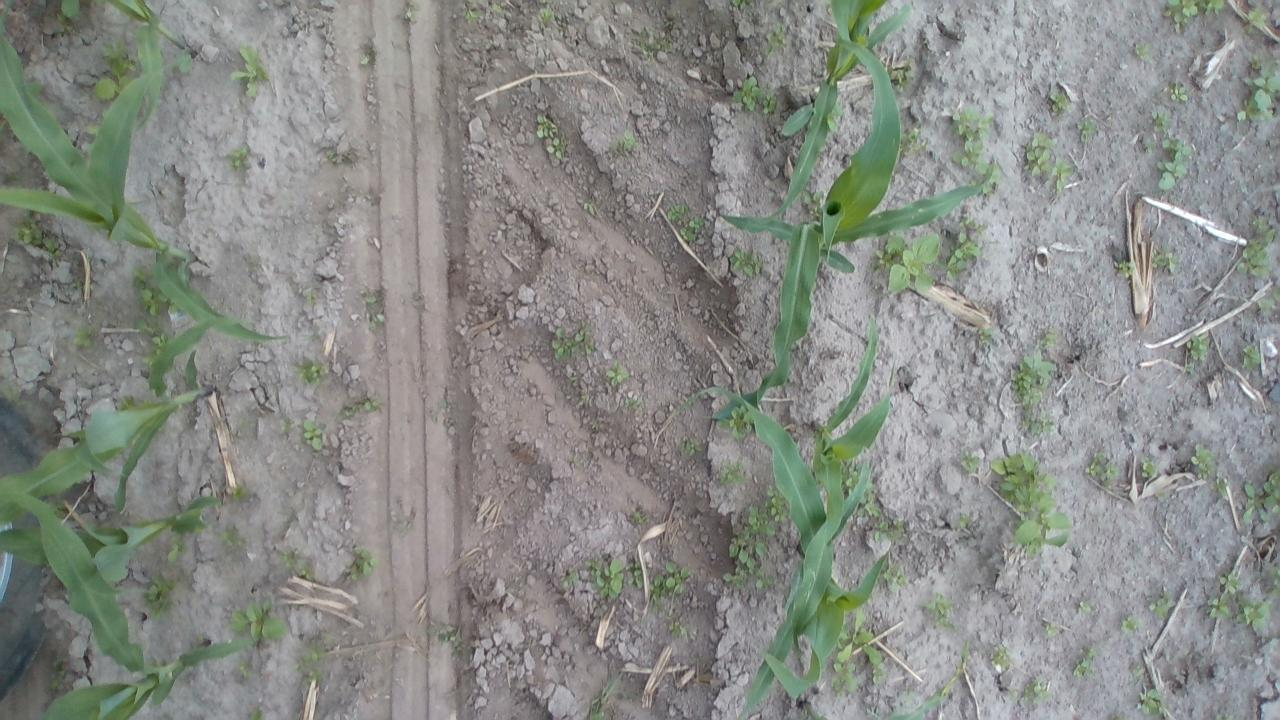Maize: (708, 41, 994, 424), (0, 0, 288, 340), (682, 386, 888, 708), (742, 316, 892, 720), (13, 493, 252, 720), (1, 315, 244, 520), (762, 0, 908, 223), (2, 488, 218, 596), (110, 0, 198, 131), (889, 692, 940, 718)
Weeds: (991, 446, 1073, 548), (724, 488, 783, 590), (872, 234, 943, 304), (834, 610, 888, 692), (1205, 572, 1267, 632), (946, 103, 996, 170), (1240, 50, 1280, 124), (10, 211, 66, 262), (1011, 356, 1064, 408), (1238, 213, 1276, 281), (1144, 138, 1190, 194), (94, 37, 134, 100), (1242, 468, 1280, 534), (228, 40, 272, 97), (229, 602, 285, 642), (586, 550, 624, 606), (128, 266, 172, 314), (950, 215, 983, 279), (649, 558, 690, 606), (586, 667, 623, 718), (554, 322, 598, 364), (296, 629, 329, 683), (534, 111, 568, 160), (140, 572, 180, 610), (734, 80, 780, 113), (1020, 675, 1056, 717), (859, 516, 908, 545), (1022, 133, 1054, 176), (342, 543, 376, 581), (633, 35, 676, 64), (921, 594, 955, 629), (1084, 452, 1122, 482), (884, 562, 916, 594), (1186, 440, 1214, 476), (952, 451, 991, 476), (1148, 588, 1180, 618), (718, 459, 752, 487), (294, 354, 328, 382), (1162, 0, 1196, 28), (1072, 645, 1098, 681), (423, 618, 461, 642), (302, 417, 328, 452), (342, 391, 378, 416), (136, 318, 170, 344), (1050, 160, 1076, 194), (366, 292, 392, 325), (1147, 105, 1174, 136), (32, 0, 81, 17), (726, 406, 752, 438), (1256, 288, 1280, 322), (218, 522, 242, 556), (1036, 326, 1064, 352), (764, 28, 788, 58), (862, 486, 884, 518), (1152, 248, 1178, 275), (679, 216, 706, 242), (990, 638, 1015, 666), (731, 250, 758, 275), (1185, 332, 1209, 360), (891, 55, 912, 87), (45, 661, 66, 693), (608, 128, 636, 152), (1077, 115, 1100, 144), (1211, 470, 1231, 503), (164, 540, 192, 563), (667, 617, 695, 640), (222, 480, 252, 501), (1238, 342, 1263, 367), (902, 124, 918, 163), (74, 324, 96, 352), (1138, 686, 1162, 711), (608, 364, 632, 388), (230, 144, 253, 168), (681, 437, 702, 463), (627, 558, 645, 588), (829, 105, 849, 132), (1134, 38, 1156, 62), (1246, 6, 1265, 33), (1048, 89, 1069, 113), (1026, 419, 1058, 434), (1120, 609, 1142, 630), (280, 413, 296, 440), (558, 570, 579, 590), (666, 203, 686, 223), (282, 548, 300, 570), (974, 326, 998, 342), (486, 1, 506, 20), (804, 190, 824, 209), (1114, 260, 1135, 278), (462, 2, 478, 24), (628, 507, 646, 526), (582, 201, 602, 218), (1200, 0, 1224, 14), (842, 466, 858, 486), (1141, 461, 1157, 480), (1130, 660, 1146, 678), (245, 705, 264, 720), (235, 662, 252, 678), (1172, 85, 1188, 102), (536, 9, 555, 23), (303, 288, 319, 304), (1271, 564, 1280, 591), (959, 512, 973, 528), (296, 567, 310, 582), (629, 396, 643, 410), (1044, 624, 1060, 636), (728, 0, 746, 10), (1080, 602, 1092, 616), (1212, 713, 1235, 720), (328, 146, 338, 162)
